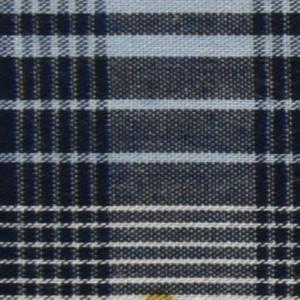Oil Stain: (143, 283, 177, 300)
